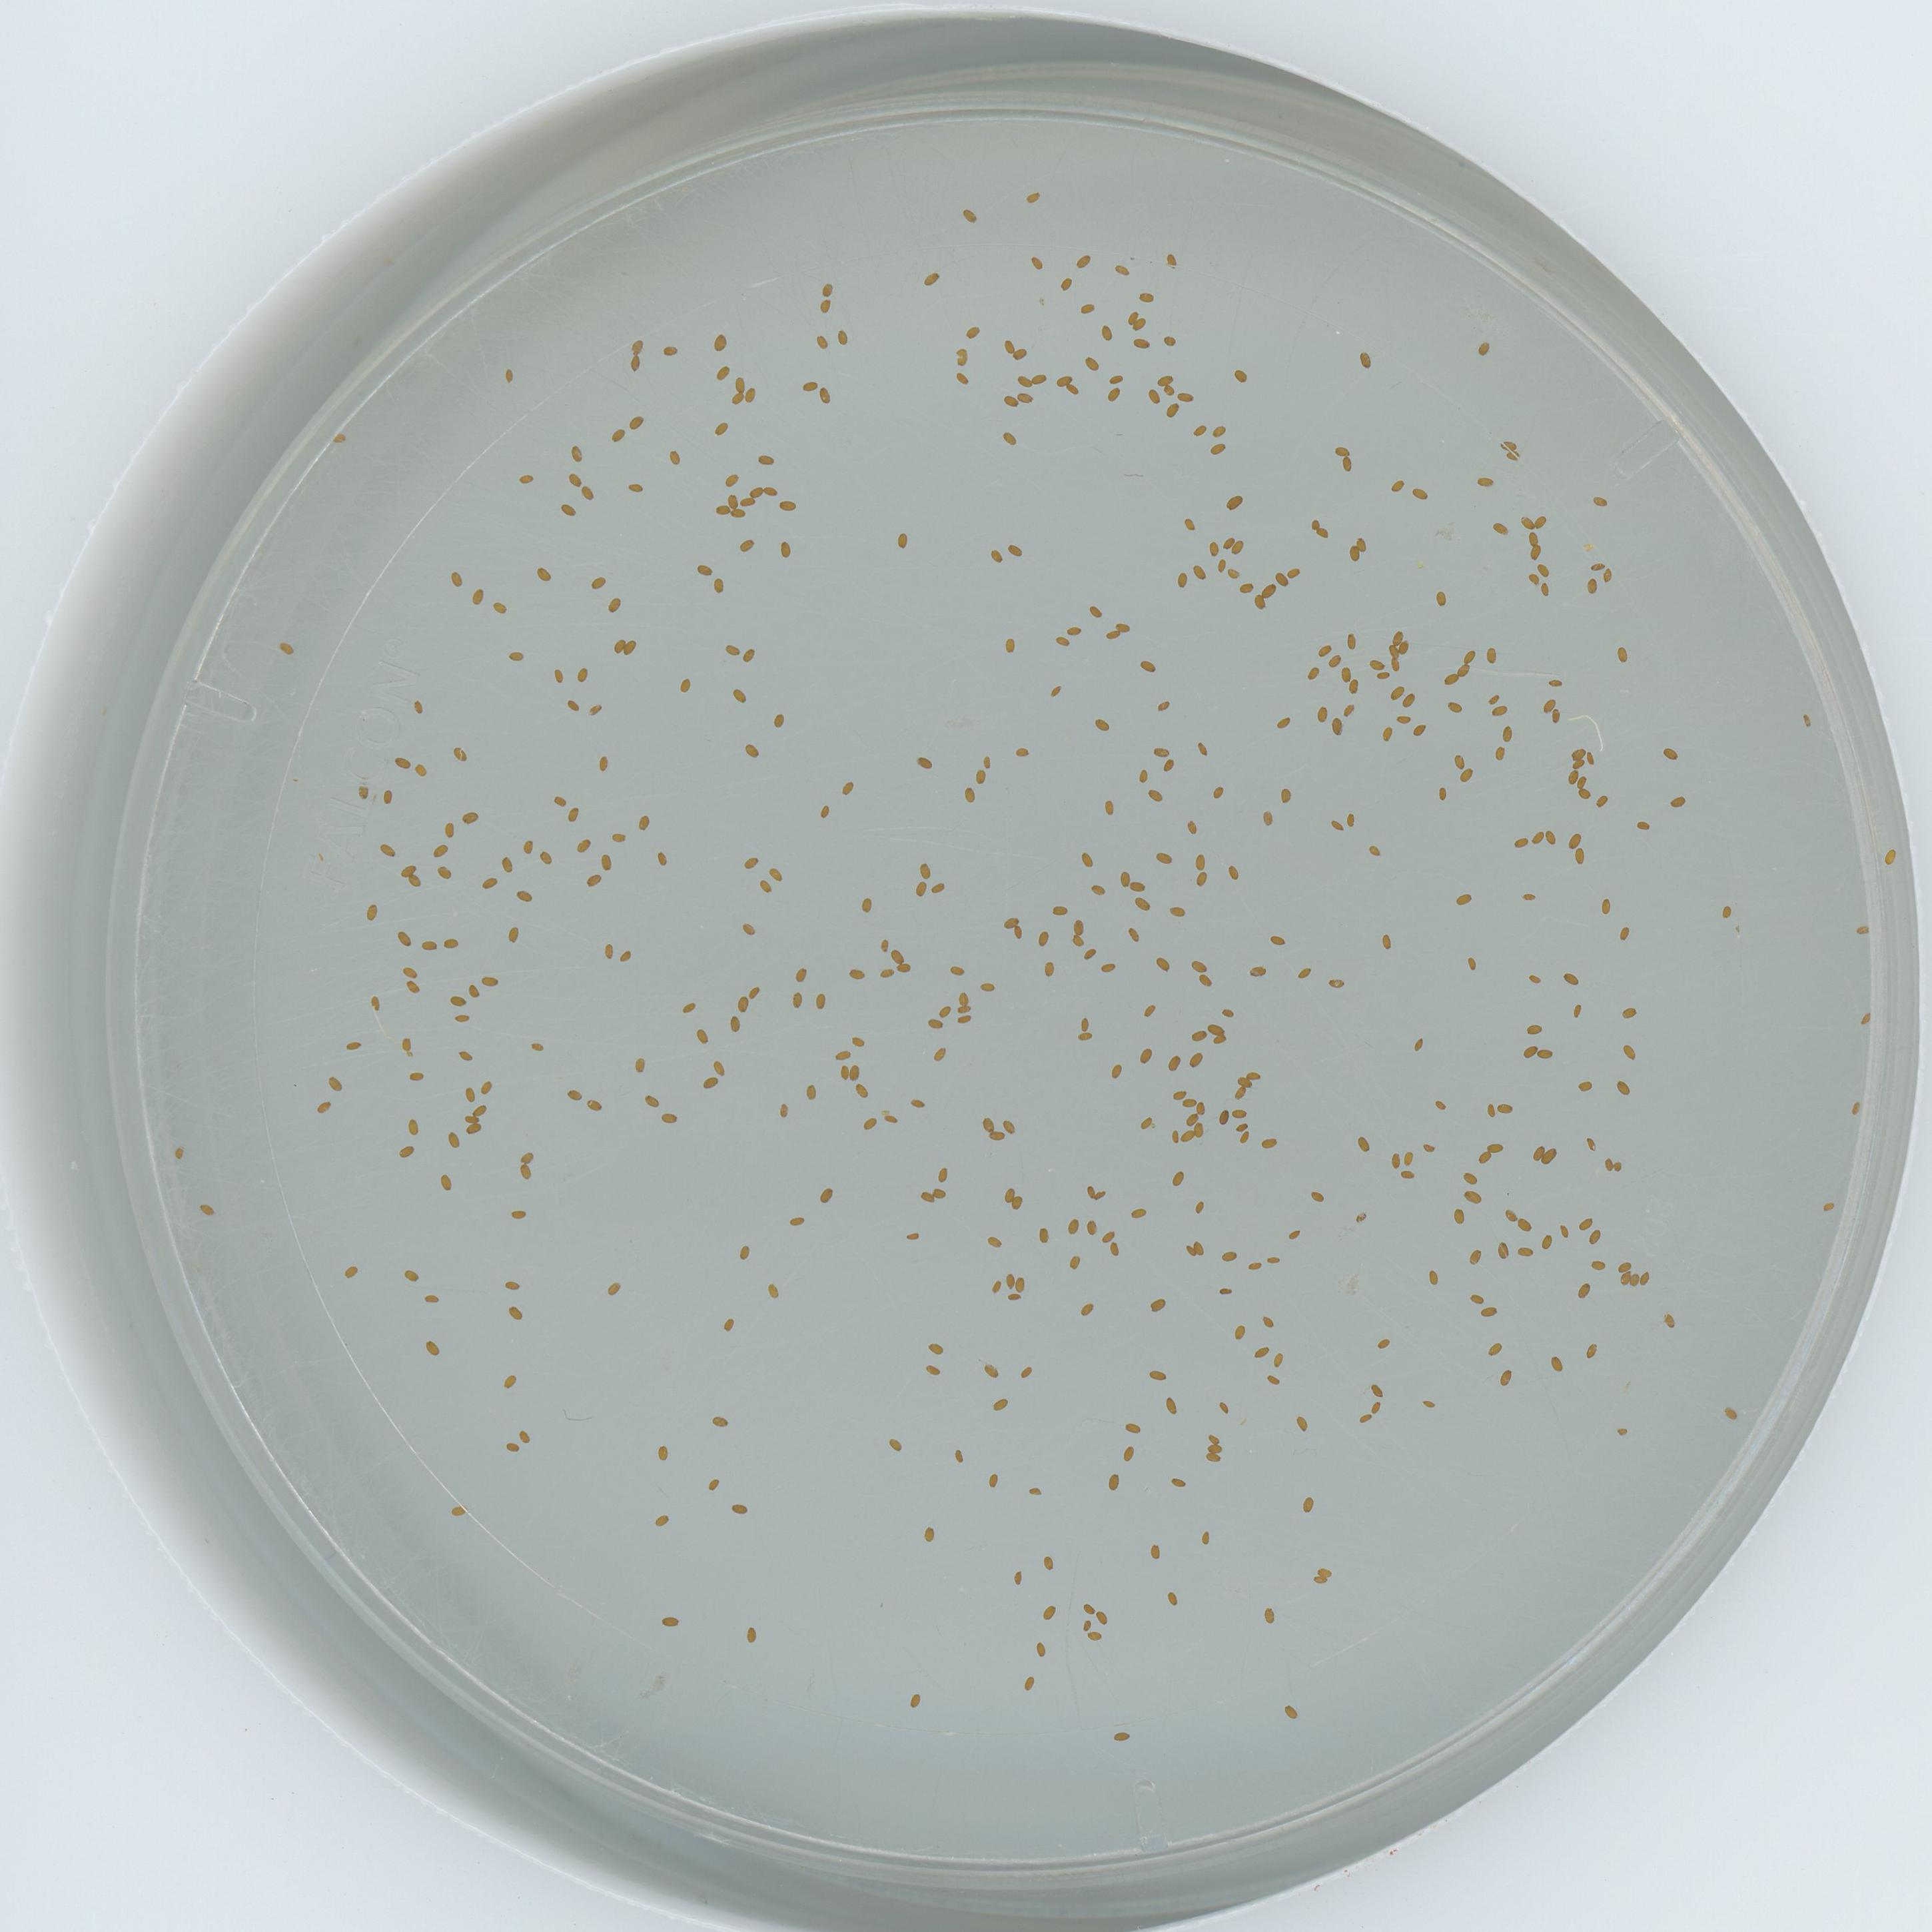seed: (396, 1033, 418, 1054), (952, 368, 971, 391), (350, 782, 372, 801), (1175, 387, 1196, 407), (952, 345, 971, 366), (1228, 1106, 1253, 1122), (1095, 961, 1120, 977), (920, 1525, 939, 1545), (1224, 492, 1244, 511), (1023, 188, 1042, 207), (1467, 1247, 1486, 1267), (1162, 1589, 1182, 1608), (1154, 954, 1171, 975), (1463, 954, 1481, 975), (1106, 1242, 1127, 1260), (1215, 1108, 1233, 1129), (1040, 955, 1058, 977), (276, 637, 294, 658), (596, 855, 616, 872), (817, 1185, 837, 1203), (787, 1210, 807, 1228), (324, 1072, 343, 1090), (366, 993, 384, 1012), (1491, 518, 1511, 536), (1131, 895, 1150, 913), (1387, 685, 1407, 702), (1189, 957, 1208, 975), (1614, 1077, 1633, 1095), (1497, 1368, 1516, 1385), (1385, 1152, 1403, 1171), (1463, 1185, 1483, 1203), (1161, 1394, 1178, 1414), (1007, 1194, 1026, 1212), (1146, 1366, 1166, 1384), (1453, 1207, 1468, 1228), (1543, 1146, 1559, 1168), (1247, 1065, 1263, 1086), (924, 269, 941, 287), (504, 925, 522, 943), (568, 444, 586, 462), (379, 842, 396, 860), (536, 564, 554, 582), (835, 327, 853, 345), (711, 333, 729, 350), (743, 855, 761, 872), (419, 934, 437, 952), (395, 754, 412, 771), (423, 1338, 441, 1355), (679, 1000, 697, 1017), (711, 1410, 729, 1428), (403, 1116, 421, 1134), (725, 1014, 743, 1031), (437, 1173, 455, 1191), (510, 1203, 527, 1221), (789, 991, 807, 1008), (702, 1072, 720, 1090), (1049, 901, 1067, 918), (1191, 563, 1208, 580), (1033, 929, 1051, 947), (1145, 387, 1162, 405), (1343, 632, 1361, 649), (1483, 646, 1500, 663), (1598, 897, 1615, 915), (1162, 400, 1180, 418), (1661, 745, 1679, 763), (1491, 745, 1509, 763), (1327, 717, 1345, 734), (961, 207, 978, 225), (1230, 538, 1247, 556), (1249, 962, 1267, 980), (1479, 1302, 1497, 1320), (1187, 1051, 1205, 1069), (1661, 1313, 1679, 1330), (1493, 1240, 1511, 1258), (1168, 1168, 1185, 1185), (1104, 1472, 1122, 1490), (1514, 1214, 1532, 1231), (395, 931, 414, 947), (778, 497, 798, 513), (731, 1500, 750, 1516), (1568, 745, 1587, 761), (1575, 1281, 1594, 1297), (1136, 1047, 1155, 1063), (1260, 1134, 1279, 1150), (1529, 1143, 1545, 1162), (1192, 1238, 1208, 1258), (837, 1063, 851, 1085), (916, 863, 934, 879), (517, 888, 534, 904), (469, 587, 487, 603), (628, 414, 646, 430), (711, 577, 727, 594), (732, 686, 750, 702), (610, 426, 628, 442), (628, 338, 646, 354), (911, 881, 929, 897), (448, 571, 465, 587), (628, 354, 644, 372), (610, 637, 626, 655), (745, 386, 761, 403), (559, 501, 577, 517), (363, 904, 380, 920), (481, 876, 499, 892), (432, 842, 449, 858), (727, 391, 745, 407), (441, 823, 458, 839), (724, 471, 741, 487), (564, 807, 582, 823), (586, 872, 603, 888), (715, 363, 731, 380), (916, 755, 934, 771), (520, 839, 538, 855), (460, 809, 478, 824), (713, 502, 731, 518), (575, 667, 591, 685), (713, 421, 731, 437), (768, 867, 786, 883), (441, 934, 458, 950), (817, 387, 835, 403), (451, 747, 469, 763), (444, 1131, 462, 1146), (934, 1164, 950, 1182), (888, 1435, 904, 1453), (402, 1265, 419, 1281), (662, 1614, 679, 1629), (909, 1093, 927, 1109), (695, 1026, 713, 1042), (734, 996, 752, 1012), (849, 1033, 867, 1049), (720, 1316, 738, 1332), (835, 1044, 853, 1060), (927, 1339, 945, 1355), (906, 1691, 924, 1707), (644, 1092, 662, 1108), (853, 1083, 870, 1099), (736, 1244, 754, 1260), (812, 991, 828, 1008), (745, 1626, 761, 1644), (566, 1085, 584, 1100), (803, 1083, 821, 1099), (315, 1099, 333, 1115), (586, 1095, 603, 1111), (1012, 343, 1030, 359), (1499, 725, 1516, 741), (1327, 817, 1345, 833), (1249, 594, 1267, 610), (1171, 571, 1189, 587), (1088, 883, 1106, 899), (1031, 368, 1047, 386), (1168, 904, 1185, 920), (1614, 646, 1631, 662), (1332, 441, 1350, 456), (1313, 706, 1330, 722), (1276, 789, 1293, 805), (1445, 699, 1463, 715), (1054, 372, 1072, 387), (1208, 441, 1226, 456), (1106, 370, 1123, 386), (1571, 849, 1587, 867), (1357, 350, 1373, 368), (1615, 925, 1633, 941), (1566, 833, 1583, 849), (1069, 918, 1086, 934), (1097, 324, 1115, 340), (1131, 317, 1148, 333), (1460, 648, 1477, 663), (1104, 386, 1122, 402), (1536, 563, 1553, 579), (1155, 370, 1173, 386), (1083, 354, 1099, 372), (1224, 865, 1242, 881), (1138, 658, 1155, 674), (1155, 849, 1171, 867), (1136, 288, 1154, 304), (1001, 635, 1017, 653), (1260, 582, 1277, 598), (1594, 794, 1612, 810), (1345, 679, 1362, 695), (1192, 741, 1210, 757), (1145, 787, 1162, 803), (1451, 754, 1468, 770), (1191, 853, 1207, 870), (1458, 768, 1476, 784), (1484, 692, 1502, 708), (1433, 589, 1449, 607), (1490, 702, 1507, 718), (1162, 251, 1178, 269), (1500, 435, 1518, 451), (1113, 260, 1131, 276), (1123, 927, 1141, 943), (1219, 1247, 1237, 1263), (1576, 1214, 1594, 1230), (1548, 1355, 1566, 1371), (1253, 1343, 1269, 1361), (1281, 1704, 1299, 1720), (1589, 1256, 1606, 1272), (1461, 1169, 1479, 1185), (1293, 1414, 1309, 1431), (1497, 1099, 1514, 1115), (1269, 1352, 1286, 1368), (991, 1394, 1008, 1410), (1583, 1341, 1599, 1359), (1000, 1116, 1017, 1132), (1258, 1606, 1276, 1622), (1148, 1295, 1166, 1311), (1230, 1322, 1247, 1338), (1189, 1026, 1207, 1042), (1299, 1495, 1315, 1513), (1039, 1605, 1056, 1621), (1621, 1042, 1638, 1058), (1129, 1203, 1146, 1219), (1118, 1445, 1136, 1461), (1123, 1419, 1141, 1435), (1537, 1231, 1555, 1247), (1488, 1141, 1506, 1157), (1246, 1258, 1263, 1274), (1099, 1228, 1115, 1246), (987, 1129, 1005, 1145), (1516, 1242, 1534, 1258), (1585, 1228, 1603, 1244), (982, 1361, 1000, 1376), (1621, 1005, 1638, 1021), (1845, 1099, 1863, 1115), (1721, 1403, 1739, 1419), (695, 563, 715, 577), (1205, 1023, 1224, 1037), (1012, 1569, 1026, 1589), (1169, 1088, 1189, 1102), (1315, 1562, 1334, 1576), (1629, 1270, 1642, 1292), (587, 702, 603, 718), (895, 533, 911, 548), (929, 879, 945, 895), (591, 575, 607, 591), (492, 600, 508, 616), (508, 648, 524, 663), (655, 851, 671, 867), (580, 485, 596, 501), (607, 596, 623, 612), (741, 648, 757, 663), (619, 947, 635, 962), (759, 879, 775, 895), (518, 471, 534, 487), (759, 451, 775, 467), (437, 865, 453, 881), (566, 471, 582, 487), (817, 803, 833, 819), (662, 343, 678, 359), (564, 697, 580, 713), (745, 743, 761, 759), (816, 333, 832, 349), (412, 763, 428, 778), (860, 897, 876, 913), (667, 449, 683, 465), (499, 858, 515, 874), (379, 789, 395, 805), (538, 851, 554, 867), (594, 755, 610, 771), (731, 375, 747, 391), (803, 377, 819, 393), (764, 483, 780, 499), (819, 281, 835, 297), (771, 713, 787, 729), (778, 541, 794, 557), (817, 297, 833, 313), (740, 538, 755, 554), (410, 699, 426, 715), (501, 366, 517, 382), (517, 1428, 533, 1444), (925, 1362, 941, 1378), (398, 1143, 414, 1159), (504, 1440, 520, 1456), (462, 1085, 478, 1100), (345, 1037, 361, 1053), (423, 1290, 439, 1306), (478, 1077, 494, 1093), (632, 1054, 648, 1070), (711, 1058, 727, 1074), (932, 1046, 948, 1062), (407, 1067, 423, 1083), (518, 1146, 534, 1162), (453, 1010, 469, 1026), (927, 1016, 943, 1031), (504, 1276, 520, 1292), (518, 1162, 534, 1178), (508, 1304, 524, 1320), (655, 1444, 671, 1460), (607, 1279, 623, 1295), (655, 1511, 671, 1527), (918, 1187, 934, 1203), (662, 1109, 678, 1125), (766, 1281, 782, 1297), (1476, 340, 1491, 356), (1077, 299, 1093, 315), (1093, 717, 1109, 732), (1192, 872, 1208, 888), (1014, 372, 1030, 387), (1132, 334, 1148, 350), (1304, 665, 1320, 681), (1412, 485, 1428, 501), (1339, 456, 1355, 472), (1456, 892, 1472, 908), (1387, 628, 1403, 644), (1116, 872, 1132, 888), (1401, 694, 1417, 709), (1115, 617, 1131, 633), (1231, 366, 1247, 382), (1534, 513, 1550, 529), (1014, 745, 1030, 761), (1077, 853, 1093, 869), (1583, 579, 1599, 594), (1525, 531, 1541, 547), (1001, 430, 1017, 446), (1316, 640, 1332, 656), (1000, 338, 1016, 354), (966, 324, 982, 340), (1184, 819, 1200, 835), (1345, 545, 1361, 561), (1366, 842, 1382, 858), (1003, 915, 1019, 931), (1548, 709, 1564, 725), (1338, 665, 1353, 681), (1161, 759, 1177, 775), (1258, 810, 1274, 826), (1670, 794, 1686, 810), (1545, 830, 1560, 846), (987, 548, 1003, 564), (1099, 800, 1115, 816), (1276, 715, 1292, 731), (1306, 515, 1322, 531), (1325, 653, 1341, 669), (1592, 492, 1608, 508), (1053, 633, 1069, 649), (1433, 787, 1449, 803), (1522, 890, 1537, 906), (1219, 534, 1235, 550), (1026, 255, 1042, 271), (980, 1115, 996, 1131), (1093, 1610, 1109, 1626), (1522, 1042, 1537, 1058), (985, 1472, 1001, 1488), (1031, 1640, 1047, 1656), (1033, 1226, 1049, 1242), (1108, 1063, 1123, 1079), (1578, 1076, 1594, 1092), (1219, 1005, 1235, 1021), (1065, 1253, 1081, 1269), (1169, 1474, 1185, 1490), (1369, 1382, 1385, 1398), (1063, 1217, 1079, 1233), (1433, 1095, 1449, 1111), (1076, 1016, 1092, 1031), (1284, 1226, 1300, 1242), (1146, 1543, 1162, 1559), (1077, 1300, 1093, 1316), (1233, 1118, 1249, 1134), (1138, 1115, 1154, 1131), (1012, 1274, 1028, 1290), (1502, 1207, 1518, 1223), (1424, 1269, 1440, 1284), (1021, 1675, 1037, 1691), (1166, 1054, 1182, 1070), (1265, 1371, 1281, 1387), (1192, 1120, 1208, 1136), (1488, 1341, 1504, 1357), (1355, 1136, 1371, 1152), (1083, 1219, 1099, 1235), (987, 1277, 1003, 1293), (1422, 1396, 1438, 1412), (1180, 1242, 1196, 1258), (333, 432, 349, 448), (172, 1145, 188, 1161), (955, 1016, 971, 1031), (955, 1001, 971, 1017), (1854, 924, 1870, 939), (1819, 1200, 1835, 1215), (888, 948, 906, 962), (724, 642, 741, 656), (400, 862, 418, 876), (747, 483, 764, 497), (449, 993, 467, 1007), (464, 984, 481, 998), (456, 1047, 474, 1062), (462, 1115, 479, 1129), (849, 966, 867, 980), (1518, 515, 1536, 529), (1476, 474, 1493, 488), (1529, 830, 1546, 844), (1394, 713, 1412, 727), (1270, 571, 1288, 586), (1546, 676, 1564, 690), (1267, 932, 1284, 947), (1134, 770, 1152, 784), (1527, 545, 1545, 559), (1376, 934, 1394, 948), (1224, 566, 1242, 580), (1237, 580, 1254, 594), (1129, 879, 1146, 893), (1191, 423, 1208, 437), (1072, 253, 1090, 267), (1384, 640, 1398, 658), (1389, 478, 1407, 492), (1468, 1293, 1486, 1307), (1525, 1021, 1543, 1035), (1196, 973, 1214, 987), (1258, 1315, 1276, 1329), (1263, 1253, 1281, 1267), (1005, 1290, 1023, 1304), (1215, 1283, 1233, 1297), (1111, 1729, 1129, 1743), (1327, 977, 1345, 991), (1858, 1014, 1875, 1028), (1026, 1484, 1044, 1499), (1484, 1100, 1497, 1120), (839, 782, 855, 796), (577, 839, 593, 853), (878, 939, 893, 954), (635, 816, 651, 830), (552, 794, 566, 810), (678, 678, 694, 692), (628, 479, 644, 494), (550, 669, 566, 683), (741, 922, 757, 936), (600, 943, 616, 957), (626, 639, 640, 655), (481, 973, 497, 987), (198, 1201, 214, 1215), (879, 966, 895, 980), (904, 1228, 920, 1242), (343, 1263, 359, 1277), (502, 1373, 518, 1387), (748, 985, 764, 1000), (449, 1504, 465, 1518), (863, 1115, 879, 1129), (706, 1476, 720, 1491), (936, 1007, 952, 1021), (405, 980, 421, 994), (402, 966, 418, 980), (794, 968, 810, 982), (883, 1109, 899, 1123), (777, 1102, 793, 1116), (957, 991, 971, 1007), (1161, 384, 1177, 398), (1210, 423, 1226, 437), (1007, 543, 1023, 557), (1589, 559, 1605, 573), (1161, 333, 1177, 347), (1541, 697, 1555, 713), (1063, 623, 1079, 637), (1017, 391, 1033, 405), (1056, 276, 1072, 290), (1412, 724, 1428, 738), (1155, 699, 1171, 713), (1286, 564, 1302, 579), (1001, 395, 1017, 409), (1152, 745, 1168, 759), (1210, 786, 1226, 800), (1373, 671, 1389, 685), (1456, 663, 1472, 678), (1086, 605, 1102, 619), (1525, 571, 1539, 587), (1635, 819, 1651, 833), (1046, 683, 1062, 697), (1341, 702, 1357, 717), (1081, 947, 1097, 961), (1343, 814, 1359, 828), (1180, 517, 1196, 531), (1368, 656, 1384, 671), (1378, 727, 1394, 741), (1720, 904, 1736, 918), (1513, 837, 1529, 851), (1203, 541, 1219, 556), (1537, 582, 1553, 596), (1599, 568, 1615, 582), (978, 755, 994, 770), (1576, 787, 1592, 801), (1063, 382, 1079, 396), (1576, 777, 1592, 791), (1444, 672, 1460, 686), (1081, 1599, 1095, 1615), (1309, 1187, 1325, 1201), (1399, 1168, 1415, 1182), (1198, 1530, 1214, 1545), (1617, 1258, 1633, 1272), (1582, 1136, 1598, 1150), (1375, 1336, 1391, 1350), (1039, 1557, 1054, 1571), (1562, 971, 1578, 985), (1295, 966, 1311, 980), (1212, 1031, 1228, 1046), (1640, 1269, 1654, 1284), (1537, 1046, 1553, 1060), (1527, 971, 1543, 985), (1557, 1223, 1573, 1237), (1079, 1619, 1095, 1633), (1017, 1364, 1033, 1378), (1421, 1139, 1435, 1155), (1191, 1200, 1207, 1214), (1352, 1208, 1368, 1223), (1139, 1003, 1155, 1017), (1401, 1150, 1417, 1164), (1214, 1399, 1230, 1414), (1000, 1185, 1014, 1201), (1081, 1182, 1095, 1198), (1571, 1001, 1585, 1017), (1477, 1150, 1493, 1164), (1001, 1272, 1016, 1288), (1182, 1093, 1196, 1109), (1231, 1085, 1247, 1099), (1233, 1074, 1249, 1088), (1881, 849, 1897, 863), (1799, 713, 1813, 729), (405, 876, 423, 888), (849, 1063, 862, 1081), (895, 962, 913, 975), (471, 1104, 488, 1116), (1194, 1099, 1207, 1116), (1169, 1129, 1182, 1146), (1309, 1575, 1329, 1585), (612, 830, 626, 844), (725, 494, 740, 508), (950, 1449, 964, 1463), (932, 1185, 947, 1200), (973, 770, 987, 784), (1123, 310, 1138, 324), (1389, 658, 1403, 672), (1398, 640, 1412, 655), (1566, 771, 1580, 786), (980, 978, 994, 993), (1369, 1399, 1384, 1414), (1086, 1629, 1100, 1644), (987, 1233, 1001, 1247), (1603, 1157, 1617, 1171), (731, 508, 747, 520), (740, 497, 755, 510), (948, 966, 964, 978), (529, 1040, 545, 1053), (1104, 630, 1120, 642), (1067, 934, 1083, 947), (1012, 925, 1024, 941), (1506, 451, 1522, 464), (1355, 538, 1371, 550), (966, 787, 978, 803), (1315, 527, 1330, 540), (1076, 1030, 1092, 1042), (1180, 1125, 1192, 1141), (1412, 1035, 1424, 1051), (1185, 1113, 1198, 1129), (464, 1125, 481, 1136), (1205, 1453, 1223, 1463), (1212, 559, 1226, 571), (1585, 752, 1598, 766), (1357, 1412, 1371, 1424), (1614, 1161, 1624, 1177), (1237, 1134, 1253, 1145), (1571, 759, 1585, 770), (1621, 1272, 1631, 1286), (1207, 1435, 1221, 1445), (1208, 1444, 1223, 1454)
